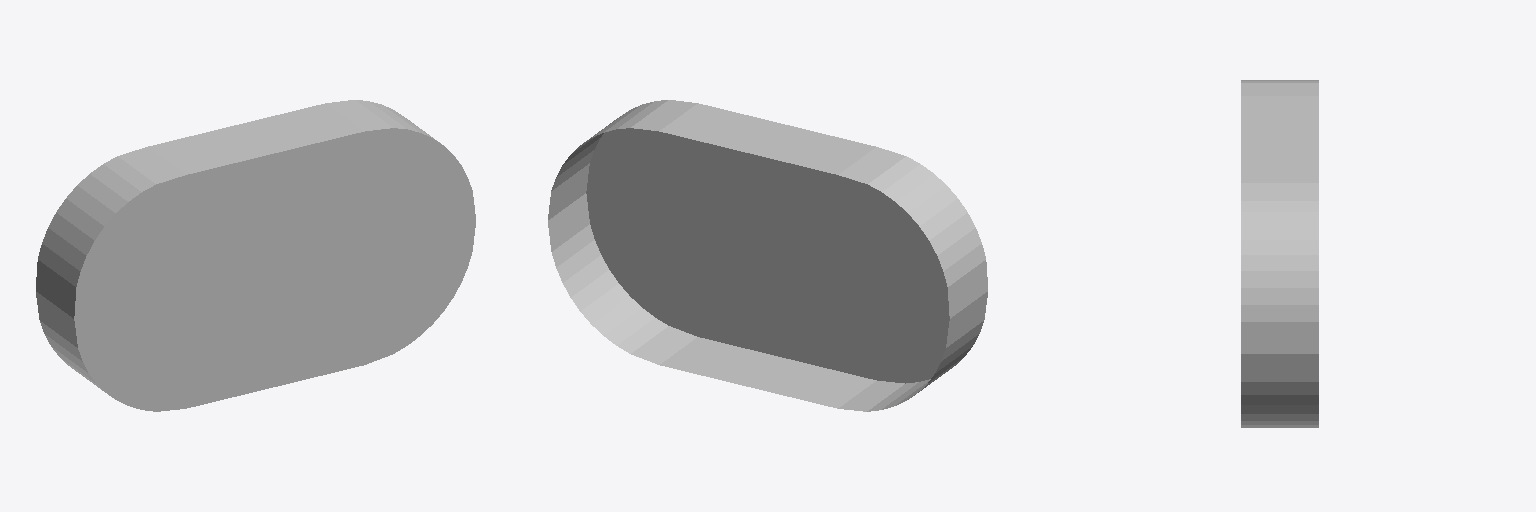
The model's file is original-15.obj.
3 renders of one model, left to right at view 1: azimuth 30°, elevation 25°; view 2: azimuth 150°, elevation 25°; view 3: azimuth 270°, elevation 25°, orthographic.
Parts seen in each view (by area): view 1: mesh9/mesh9-geometry/material_0/component_2#mesh9-geometry; view 2: mesh9/mesh9-geometry/material_0/component_2#mesh9-geometry; view 3: mesh9/mesh9-geometry/material_0/component_2#mesh9-geometry.
Part boxes in pixels (x1,y1,x2,y2): mesh9/mesh9-geometry/material_0/component_2#mesh9-geometry: (36,100,475,411); mesh9/mesh9-geometry/material_0/component_2#mesh9-geometry: (548,100,987,411); mesh9/mesh9-geometry/material_0/component_2#mesh9-geometry: (1241,80,1318,427).
Size of the model in its own units: 0.091 by 0.0506 by 0.0152.